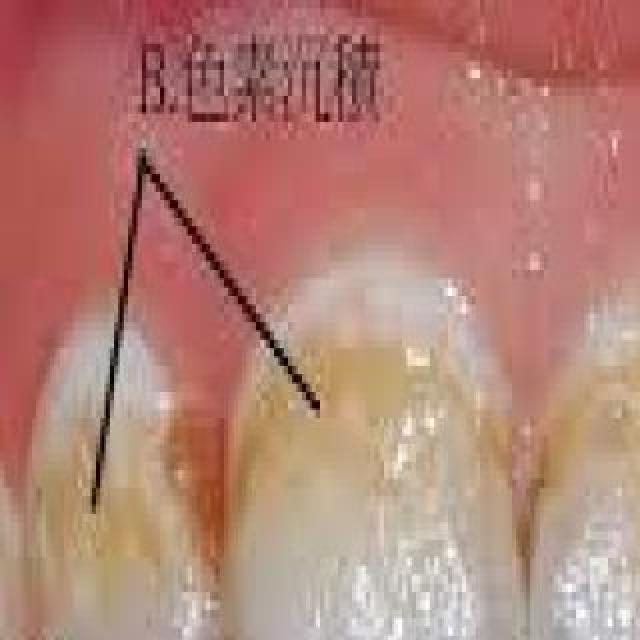cavities: (224, 200, 526, 640), (18, 294, 228, 640), (526, 208, 640, 640)
plaque: (247, 242, 531, 448), (22, 267, 194, 491), (568, 254, 640, 492)
